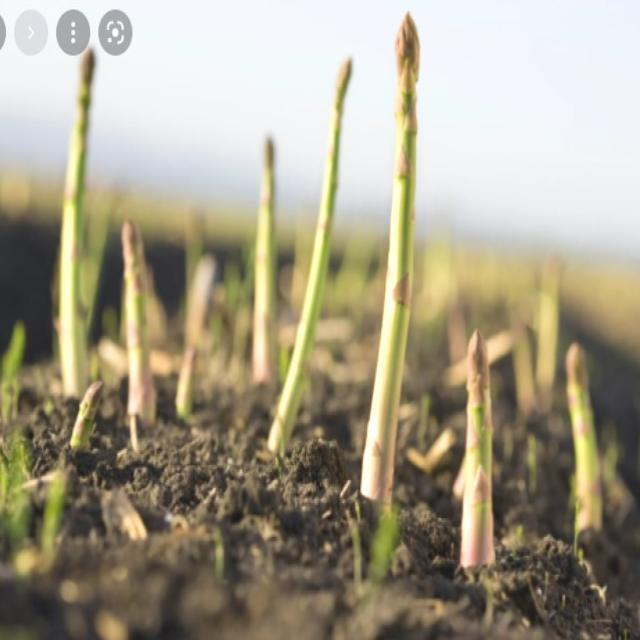aspargus: (270, 56, 355, 454), (360, 15, 422, 510), (60, 47, 96, 398), (458, 333, 496, 572), (565, 344, 606, 542), (120, 222, 153, 415)
